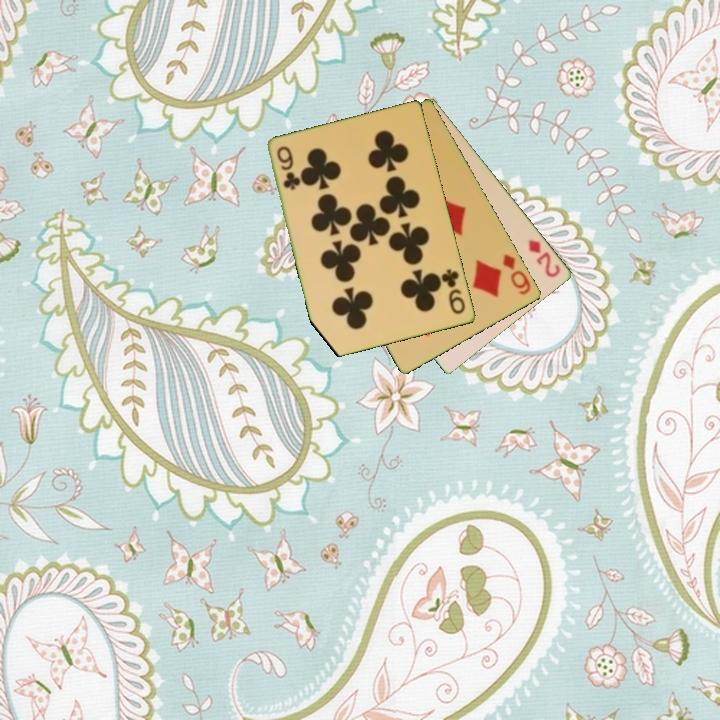2d: (525, 236, 564, 281)
6d: (499, 250, 534, 298)
9c: (438, 266, 469, 317), (273, 143, 302, 194)
